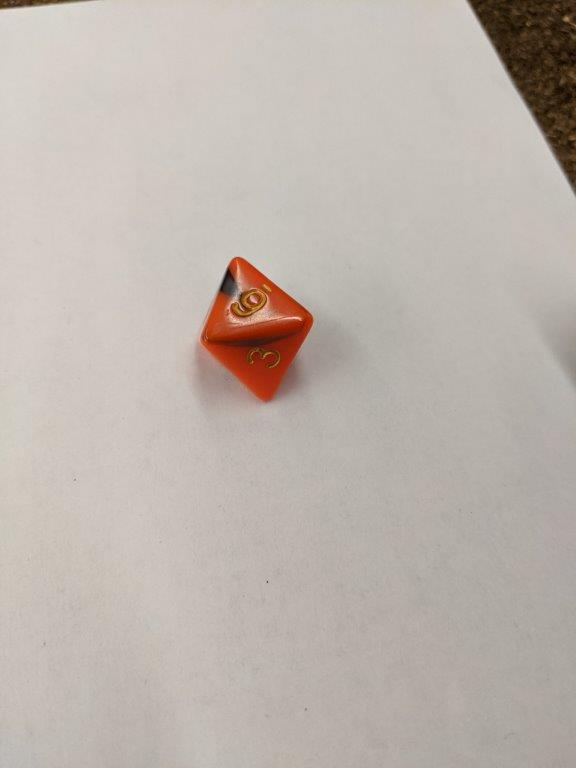d8-6: (197, 252, 315, 405)
